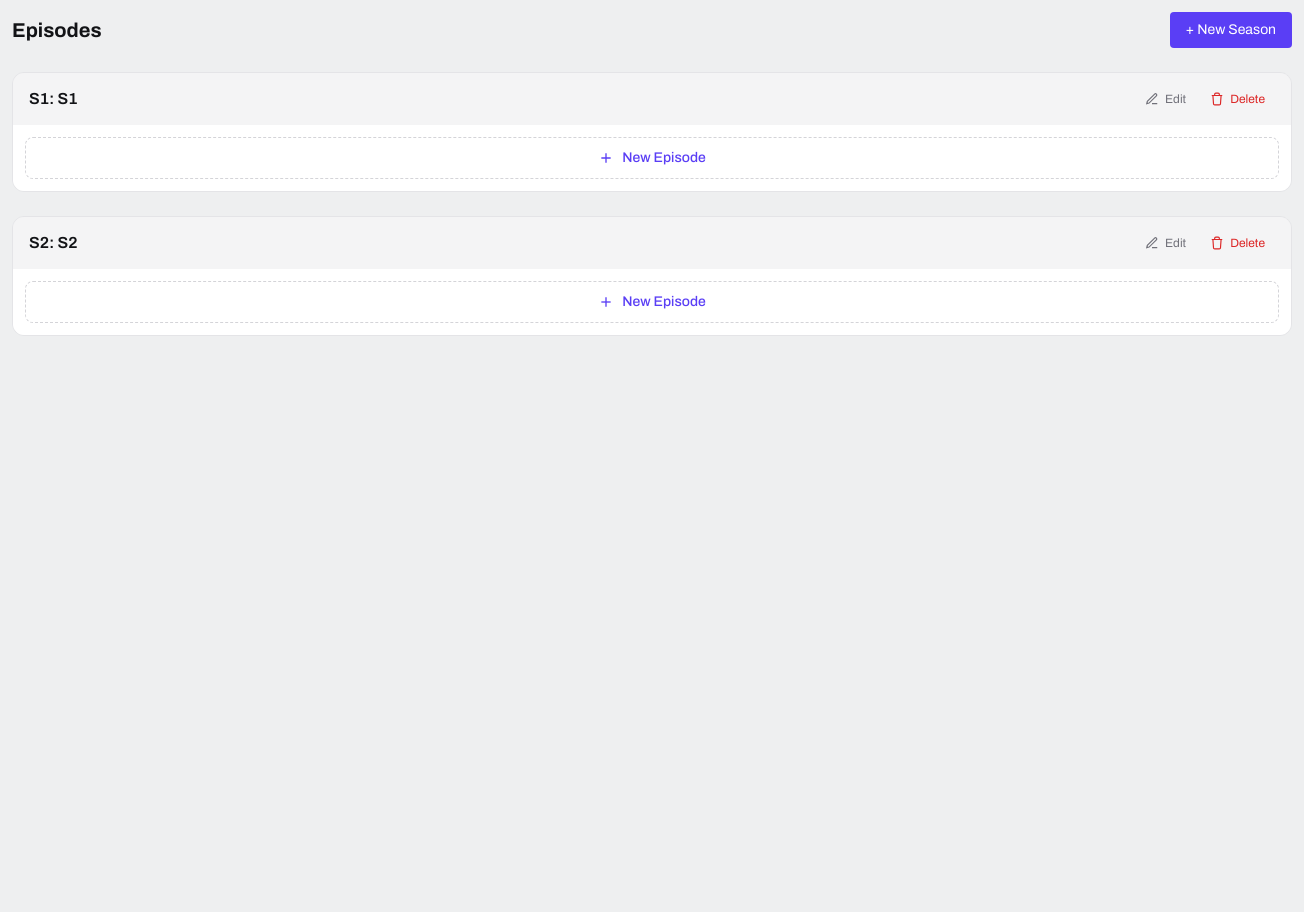
Test: season editing flow › clicking a season's Edit button opens the season form panel
Check: the text "S1: S1" is shown, box [29,87,77,111]
Step 1. Click the 1st button "Edit" → (1166, 99), box [1135,85,1196,113]
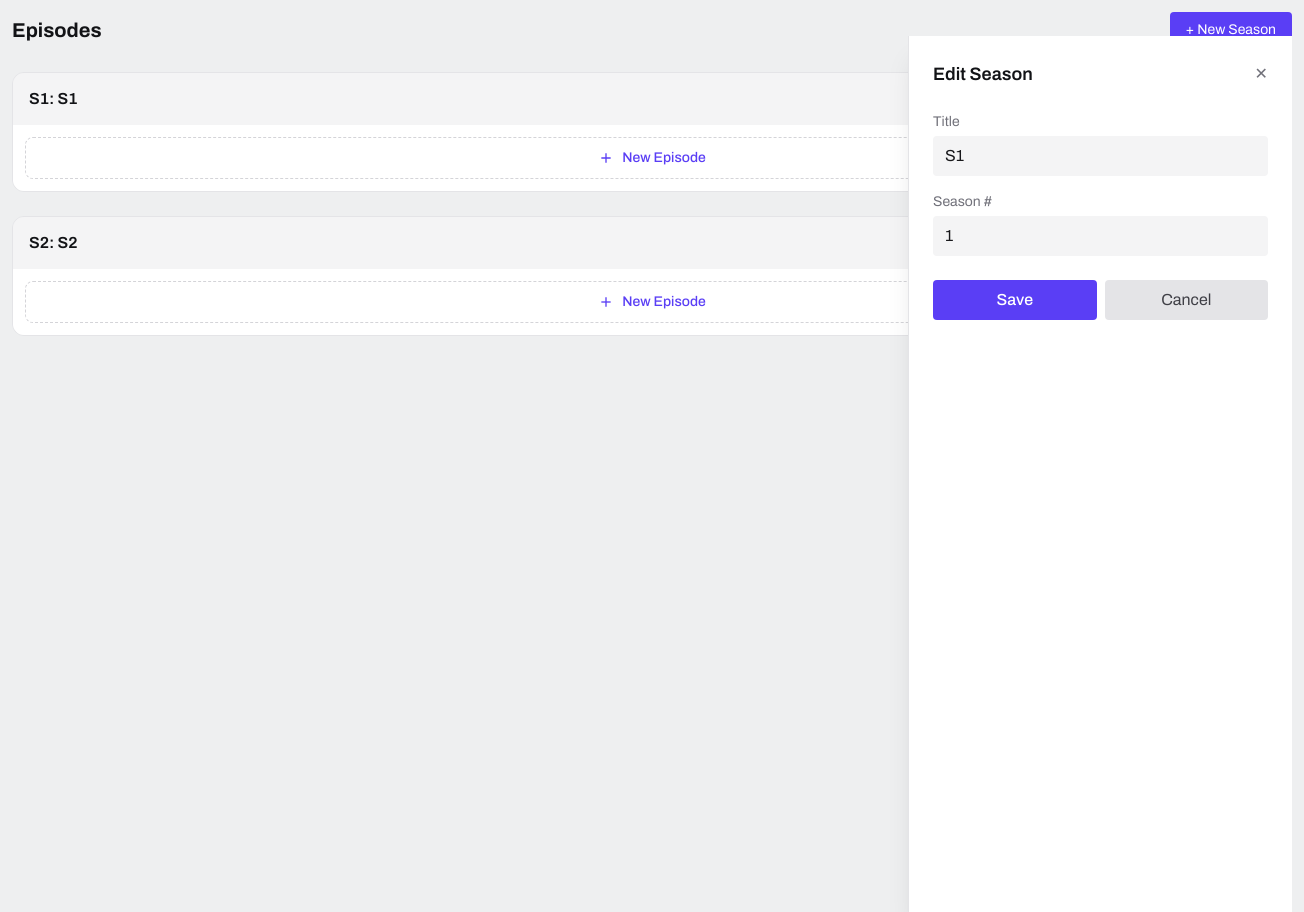
Check: the heading "Edit Season" is shown, box [933,60,1033,88]
